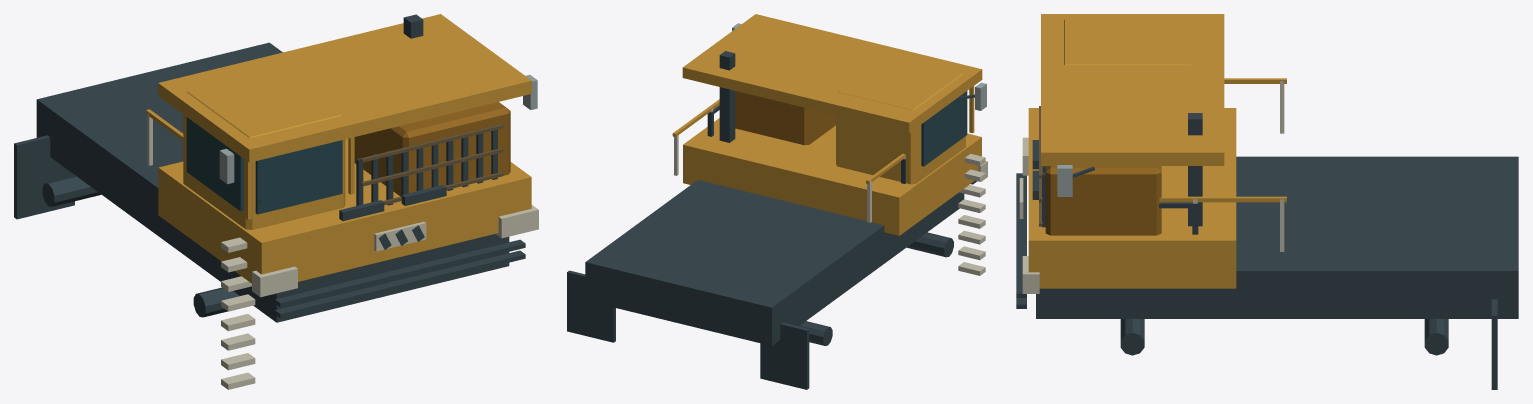
Rendered from haul-body.glb.
The picture shows the model from 3 angles, left to right: view 1: azimuth 30°, elevation 25°; view 2: azimuth 150°, elevation 25°; view 3: azimuth 270°, elevation 25°; orthographic projection. The views are drawn at different scales.
Bounding box in the file's own units: 7.47 × 5.96 × 10.41.
